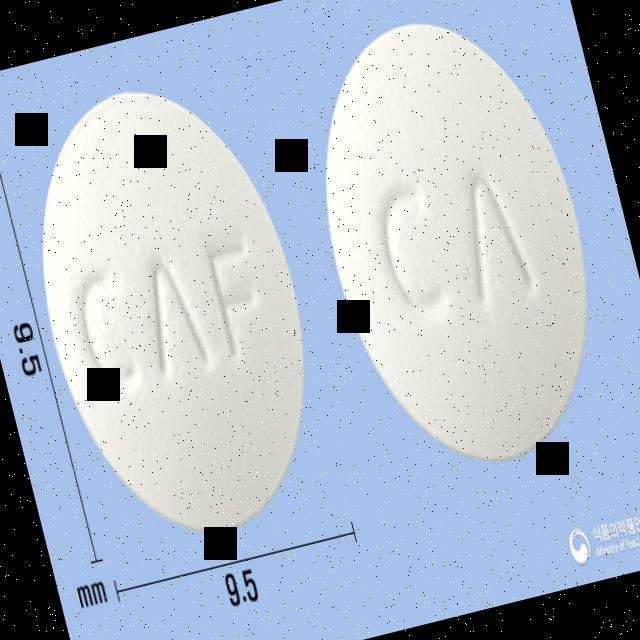Ciflox-Q: (0, 58, 350, 563), (279, 0, 634, 497)
